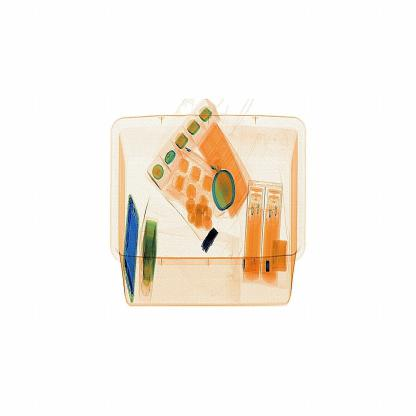scissors: (197, 226, 226, 260)
